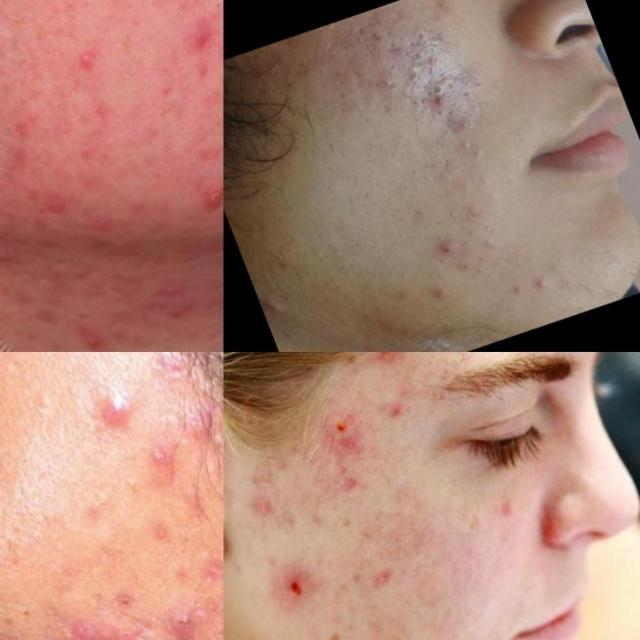8: (47, 592, 141, 640), (88, 371, 146, 442), (180, 11, 223, 74), (157, 594, 213, 640), (141, 426, 183, 481), (69, 313, 121, 352), (522, 264, 560, 308), (279, 567, 319, 605), (428, 278, 456, 312), (427, 234, 459, 262), (330, 413, 356, 446), (373, 352, 409, 372)
blackheads: (418, 78, 460, 116), (416, 48, 452, 84), (344, 59, 375, 96), (365, 26, 389, 51)
dark spot: (464, 142, 494, 170), (453, 254, 481, 282)
